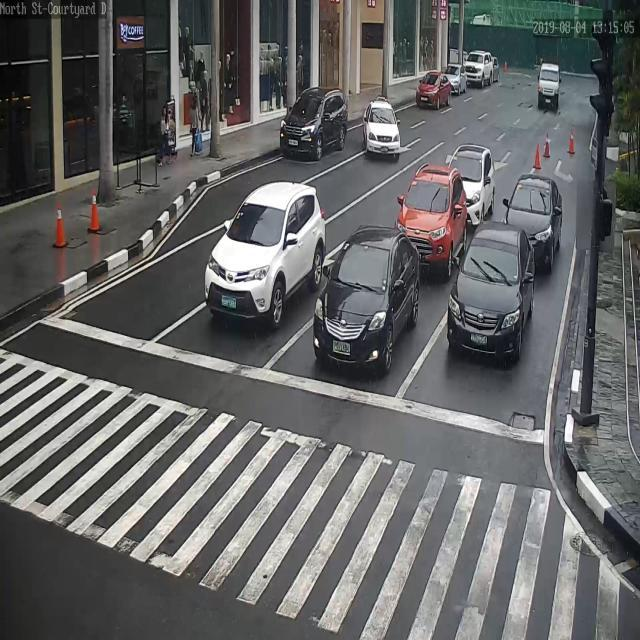car: (208, 181, 326, 328), (314, 226, 419, 375), (448, 223, 534, 363), (394, 164, 472, 281), (503, 178, 562, 272), (279, 86, 350, 162), (444, 145, 497, 219), (361, 97, 402, 157), (415, 71, 455, 112), (466, 49, 500, 88), (443, 63, 471, 93)
van: (537, 63, 562, 112)
